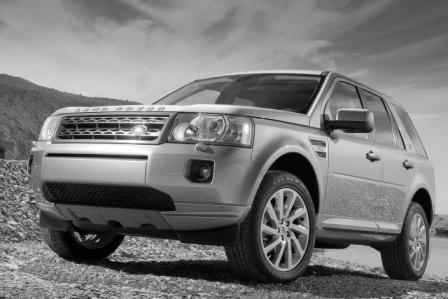car: (28, 68, 442, 287)
